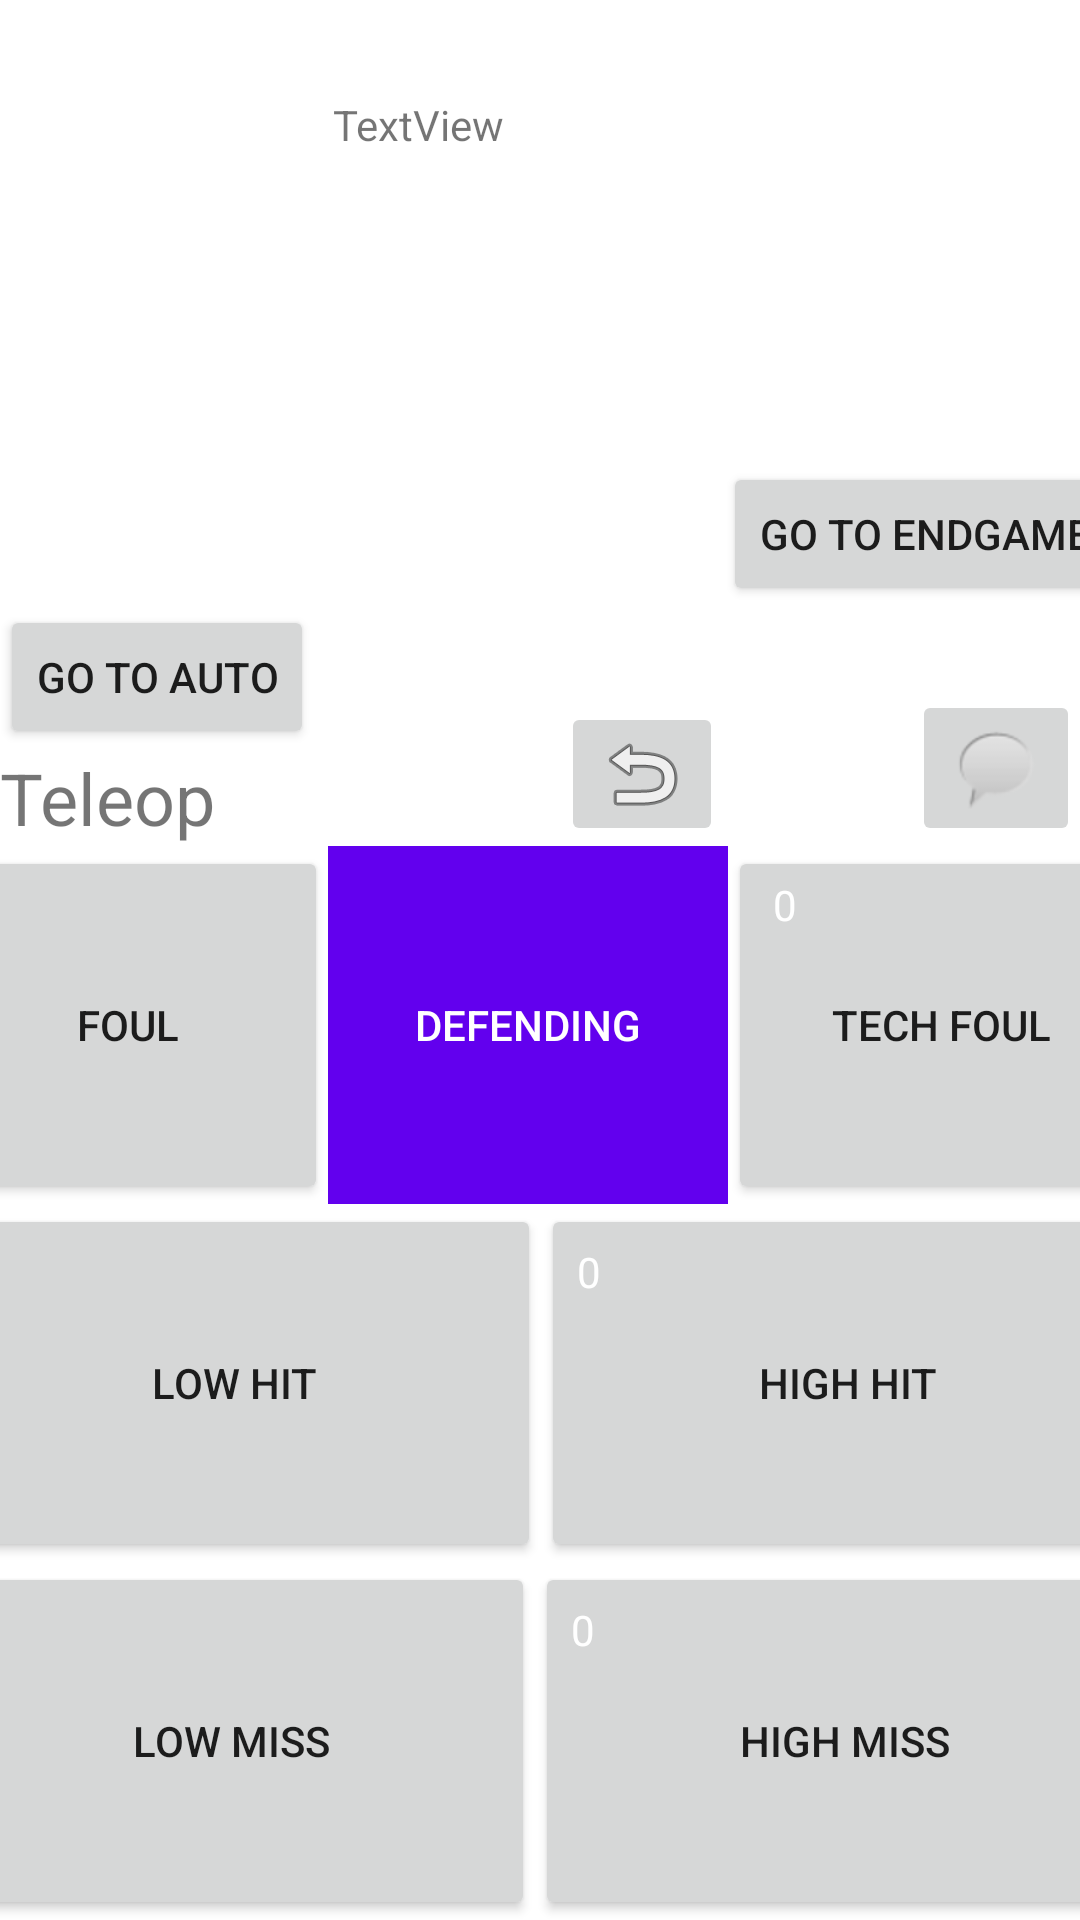

Named icons in this screenshot (1080 × 1920) and their centers, (x=x, y=y):
revert: (x=642, y=774)
sym action chat: (x=996, y=768)
